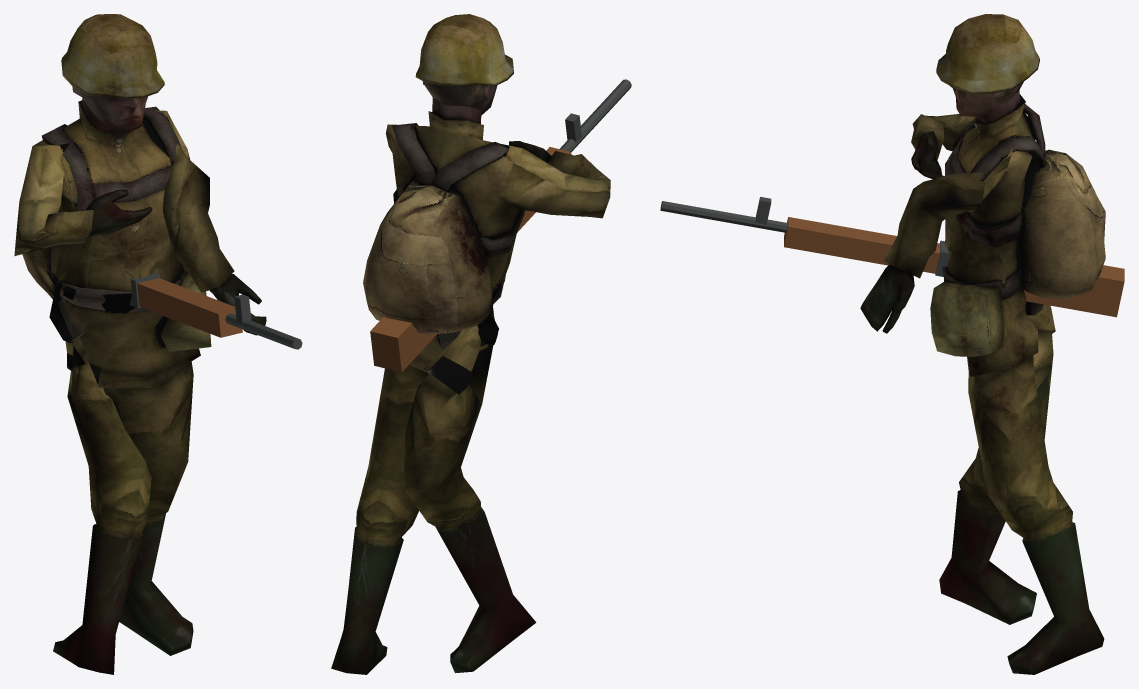
File: soviet_ww2_soldier_walk_03.glb
3 views of the same model, side by side, from view 1: azimuth 30°, elevation 25°; view 2: azimuth 150°, elevation 25°; view 3: azimuth 270°, elevation 25° (orthographic). The views are drawn at different scales.
Parts seen in each view (by area): view 1: final_Static, SovietRifle_Generated; view 2: final_Static, SovietRifle_Generated; view 3: final_Static, SovietRifle_Generated.
Part boxes in pixels (x1,y1,x2,y2): final_Static: (14, 14, 266, 674); SovietRifle_Generated: (129, 273, 302, 349); final_Static: (331, 14, 610, 674); SovietRifle_Generated: (370, 79, 631, 372); final_Static: (860, 14, 1105, 674); SovietRifle_Generated: (660, 196, 1124, 317).
Size of the model in its own units: 0.6434 by 1.78 by 1.22.
3 materials, 1 textured.
